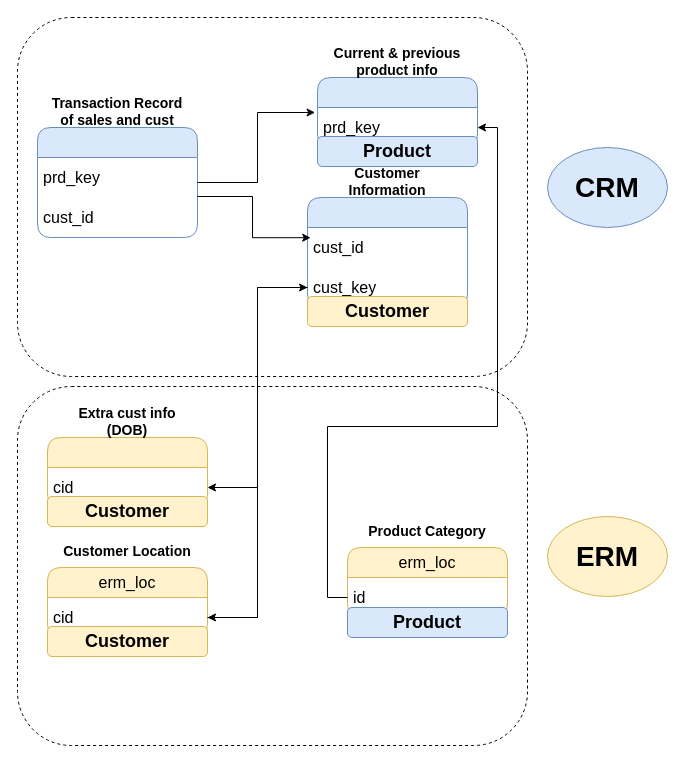
Some shapes in this 685 by 763 pixel diagram are drawn without their labels. The box of each missing label's shape, as (x1, y1, x2, y2) in pixels:
crm_cust_info: (306, 196, 468, 308)
crm_prd_info: (316, 76, 478, 148)
crm_sales_detail: (36, 126, 198, 238)
erm_custAZ12: (46, 436, 208, 508)
